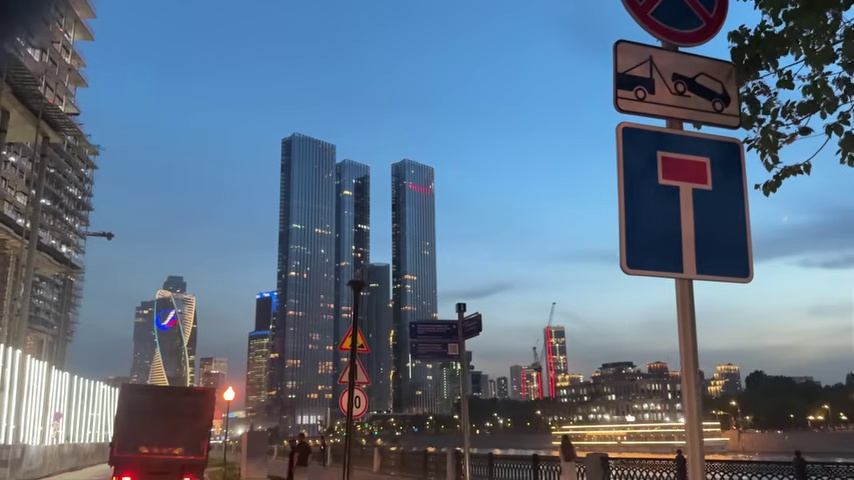apagada: (95, 229, 116, 245)
